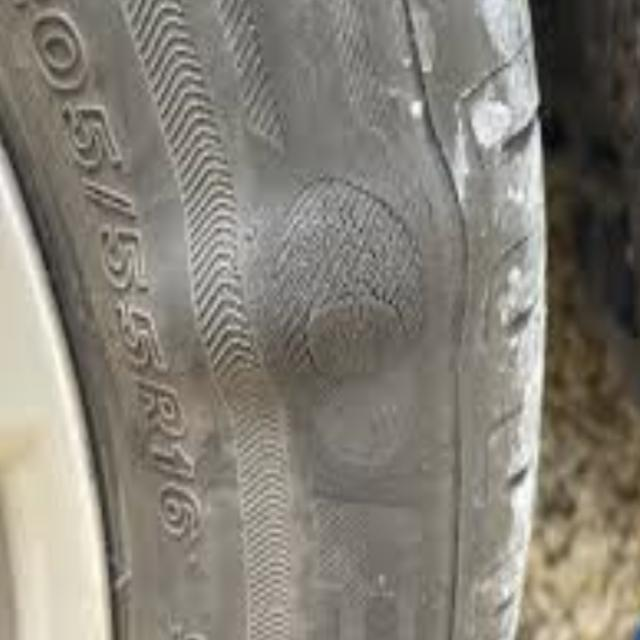Bulge: (109, 157, 477, 431)
